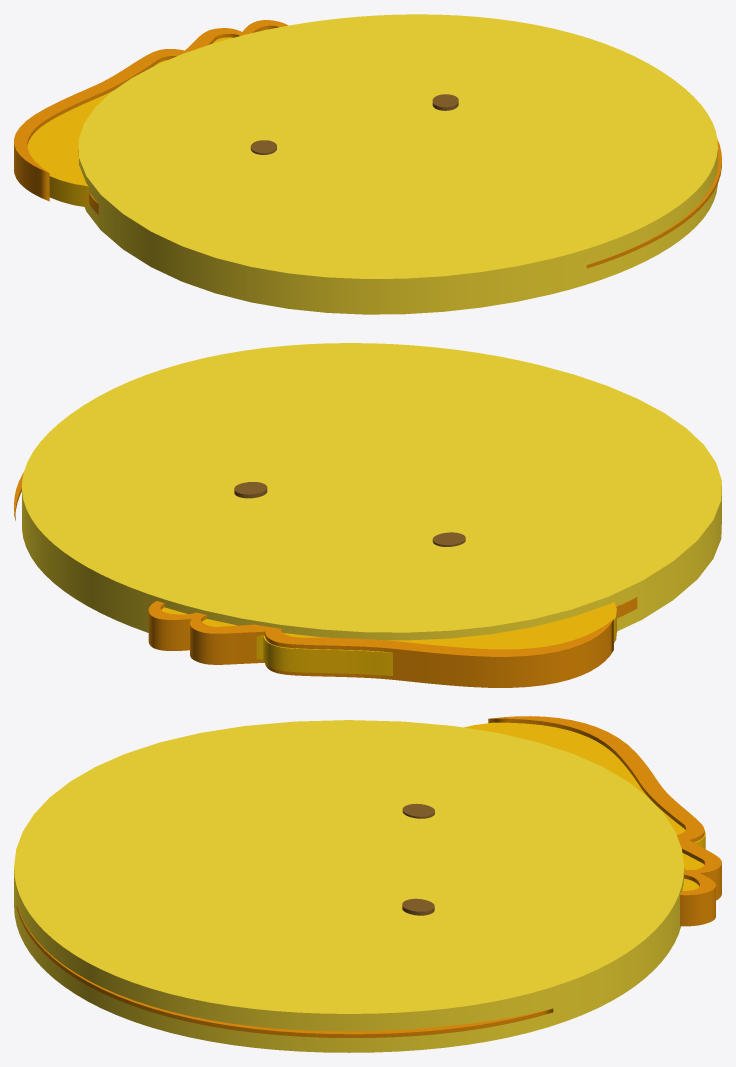
File: emoji_u1fae1.glb
3 views of the same model, one above another, from view 1: azimuth 30°, elevation 25°; view 2: azimuth 150°, elevation 25°; view 3: azimuth 270°, elevation 25° (orthographic). The views are drawn at different scales.
Parts seen in each view (by area): view 1: emoji_u1fae1; view 2: emoji_u1fae1; view 3: emoji_u1fae1.
Boxes of the visible parts, <box> form: emoji_u1fae1: <box>14,14,721,314</box>; emoji_u1fae1: <box>14,343,721,687</box>; emoji_u1fae1: <box>14,716,721,1052</box>.
Bounding box in the file's own units: 0.0336 × 0.0024 × 0.033.
